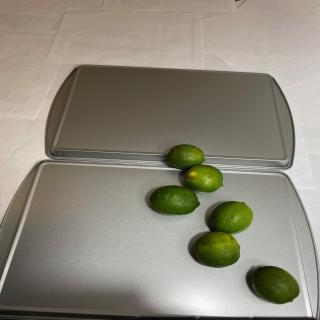Chilli: (251, 266, 300, 304)
Lemon: (193, 231, 240, 268), (149, 185, 200, 215), (210, 200, 253, 234), (184, 164, 224, 193), (167, 144, 205, 170)
